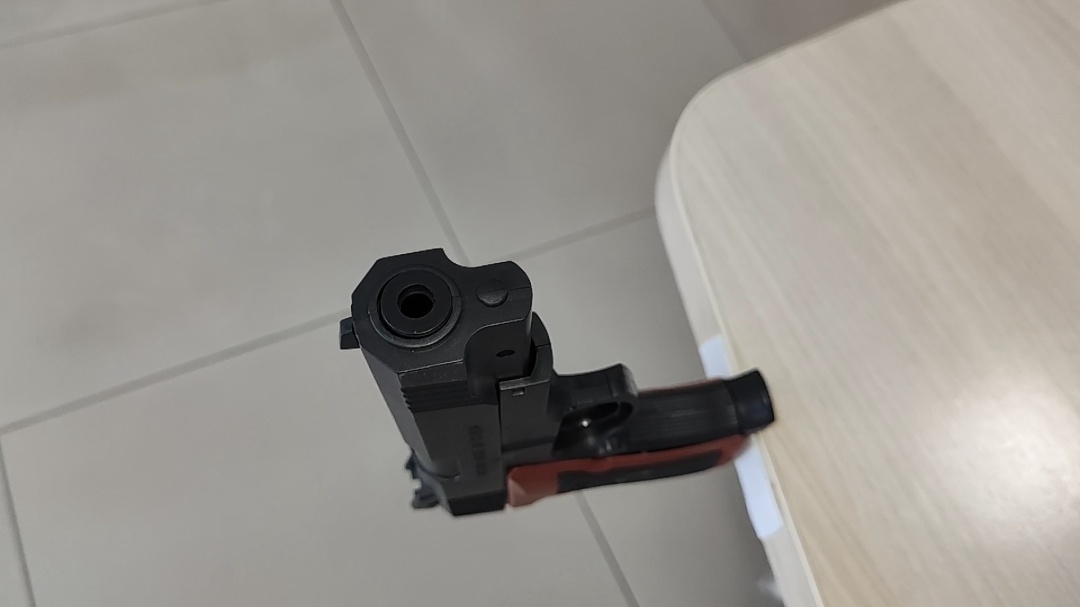gun: (341, 248, 779, 516)
